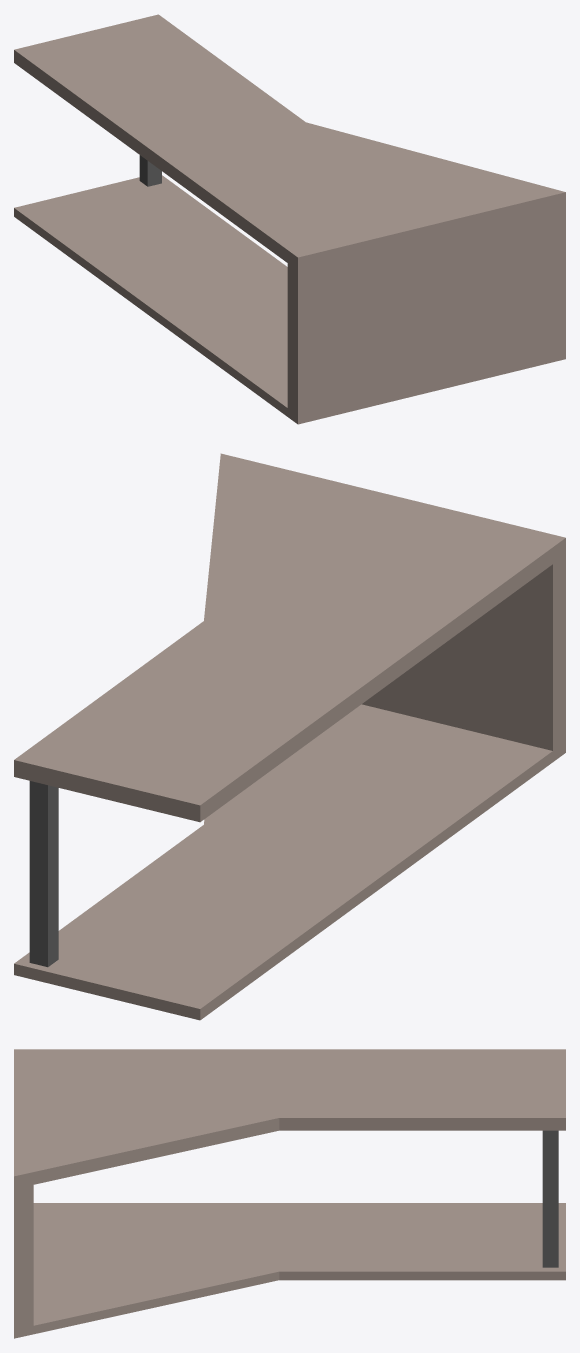
Rendered from Wall Bracket.fbx.
3 renders of one model, top to bottom at view 1: azimuth 30°, elevation 25°; view 2: azimuth 150°, elevation 25°; view 3: azimuth 270°, elevation 25°, orthographic. The views are drawn at different scales.
Visible parts, largest first — view 1: Wall Bracket; view 2: Wall Bracket; view 3: Wall Bracket.
Part boxes in pixels (box(x1,y1,x2,y2)): Wall Bracket: box(14, 14, 565, 424); Wall Bracket: box(14, 453, 565, 1020); Wall Bracket: box(14, 1049, 565, 1338).
Size of the model in its own units: 371 by 221 by 680.
